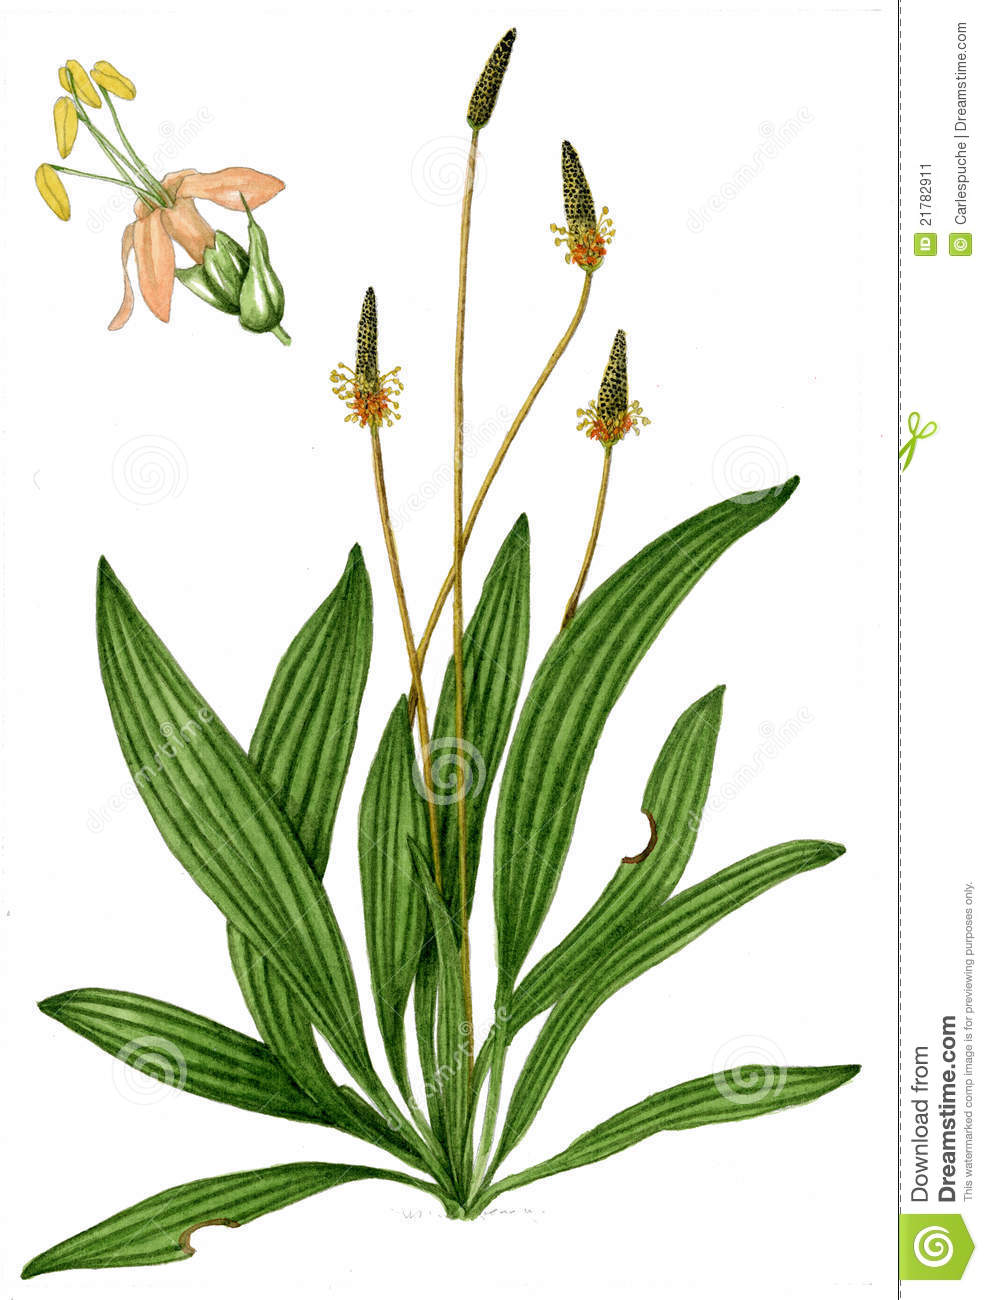buckhorn plantain: (85, 23, 866, 1251)
